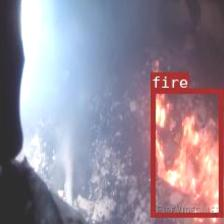fire: (150, 88, 222, 216)
